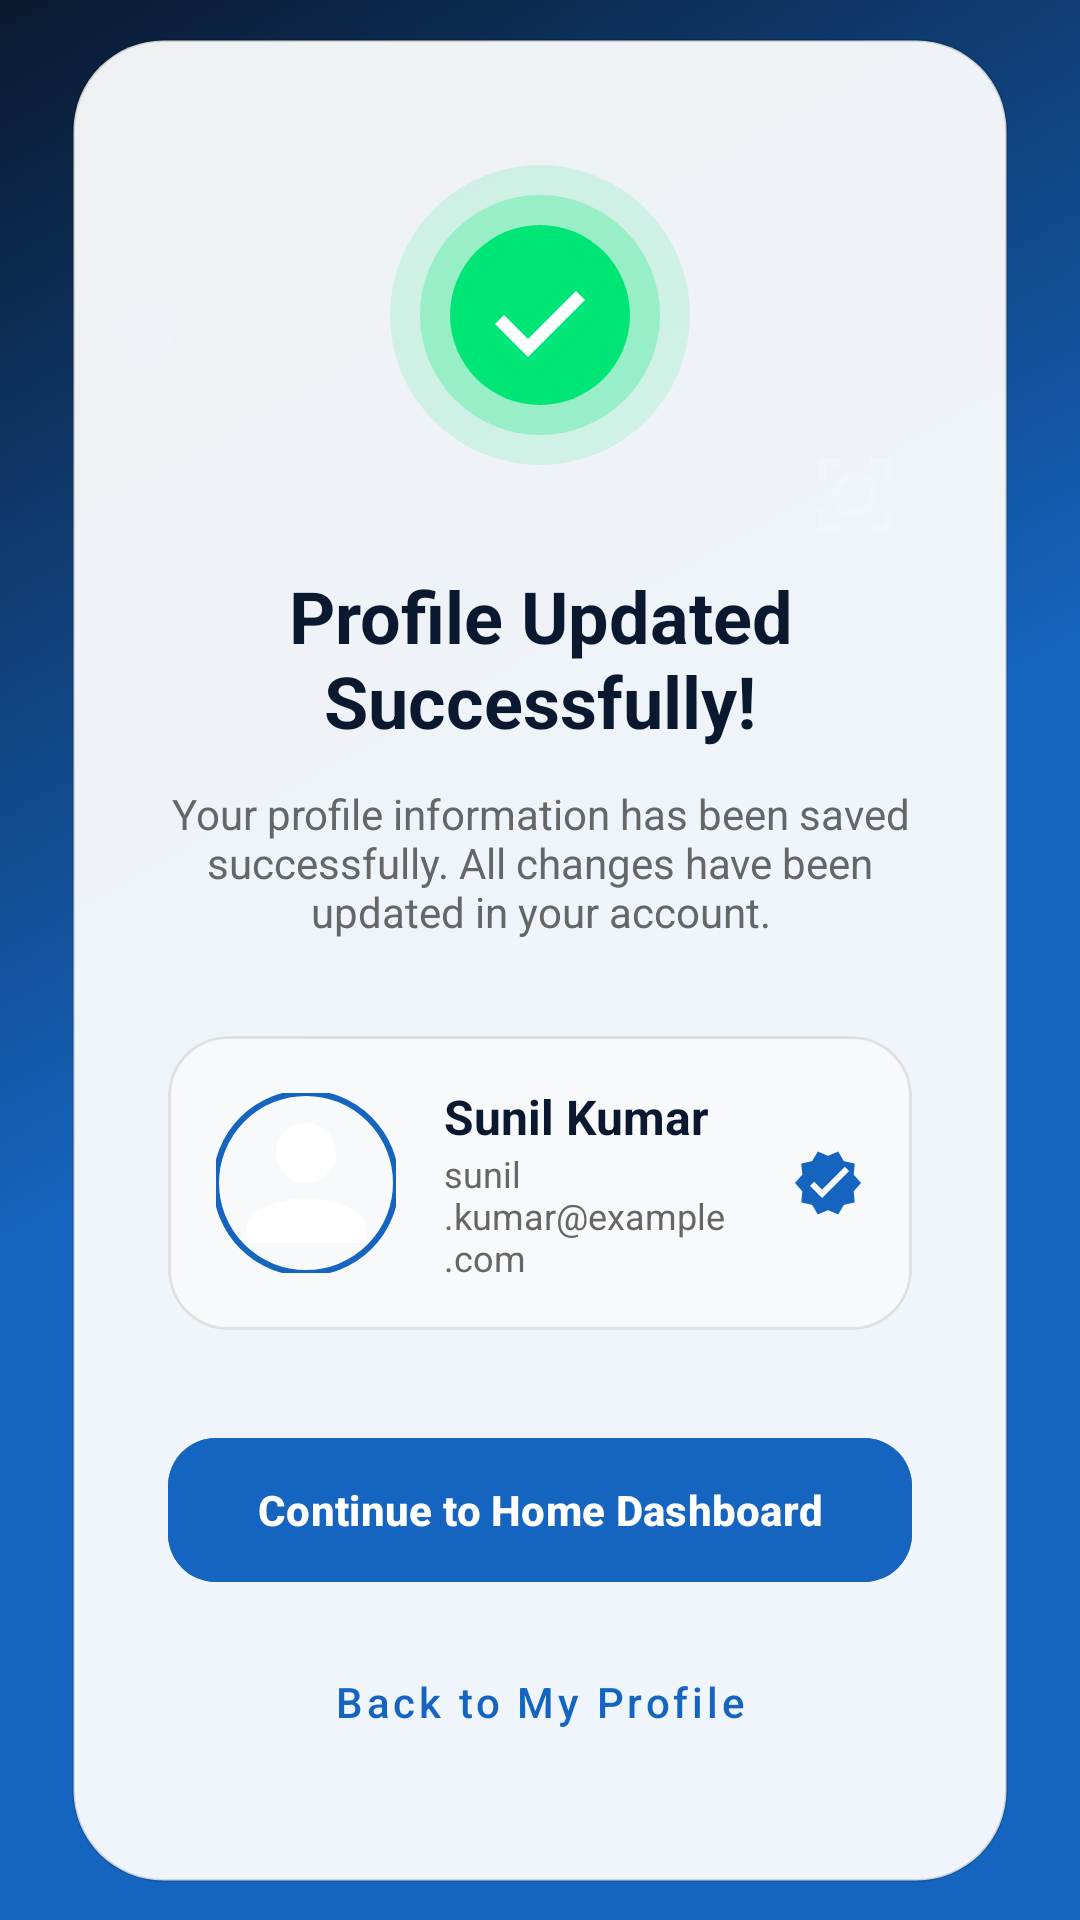

Where icons sit on this 1080x1920 app screen, as (x1, y1, x2, y2):
person: (216, 1093, 396, 1273)
verified: (795, 1151, 861, 1215)
